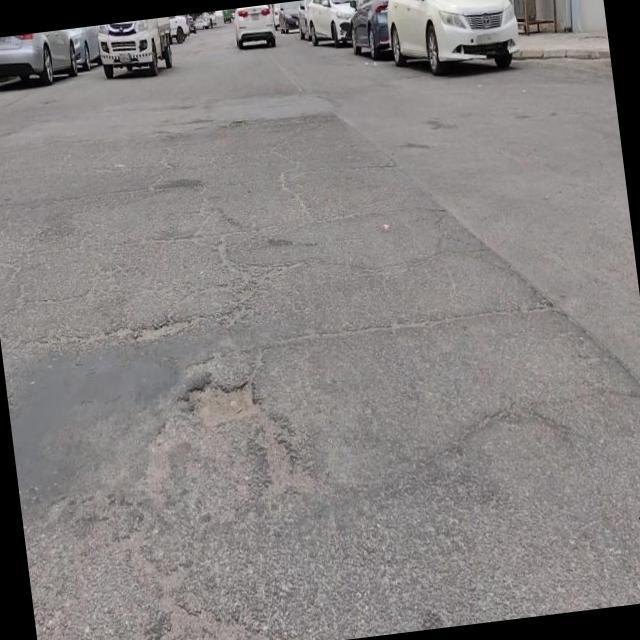Pothole: (179, 374, 263, 433)
